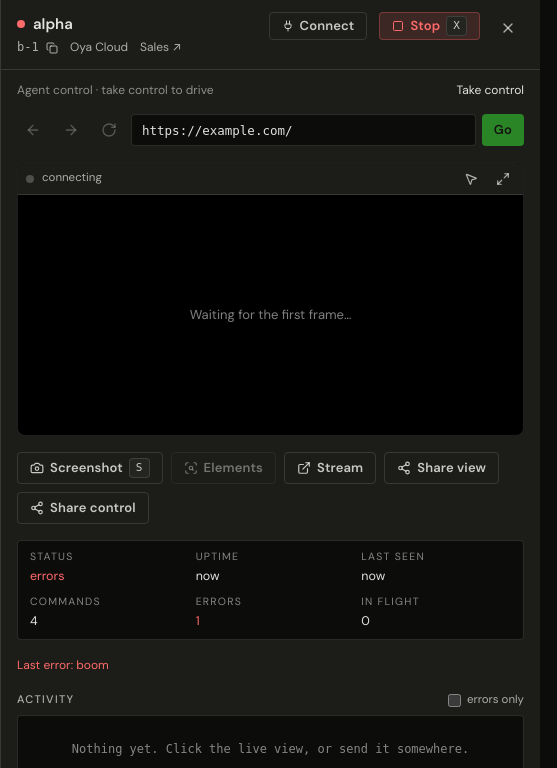
it: BrowserPanel › takes control from the agent
Click the button "Take control" at (490, 90), box left=456, top=82, right=524, bottom=98
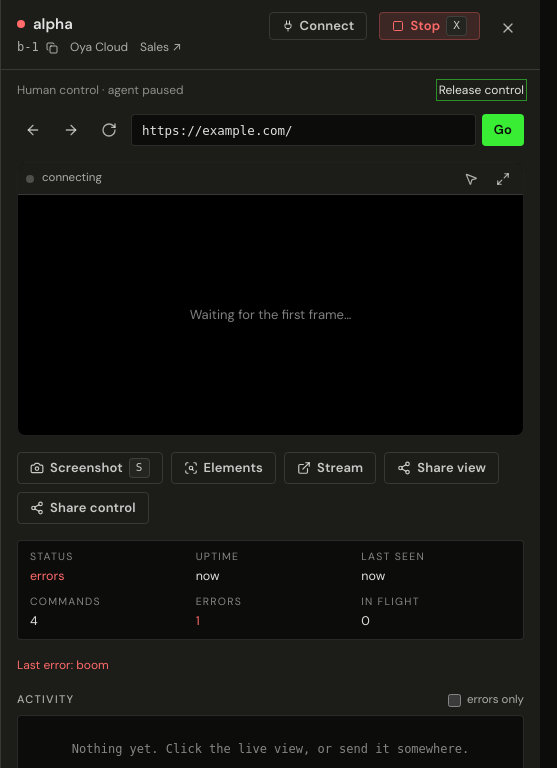
Expected: the button "Release control" is shown, left=439, top=82, right=524, bottom=98
